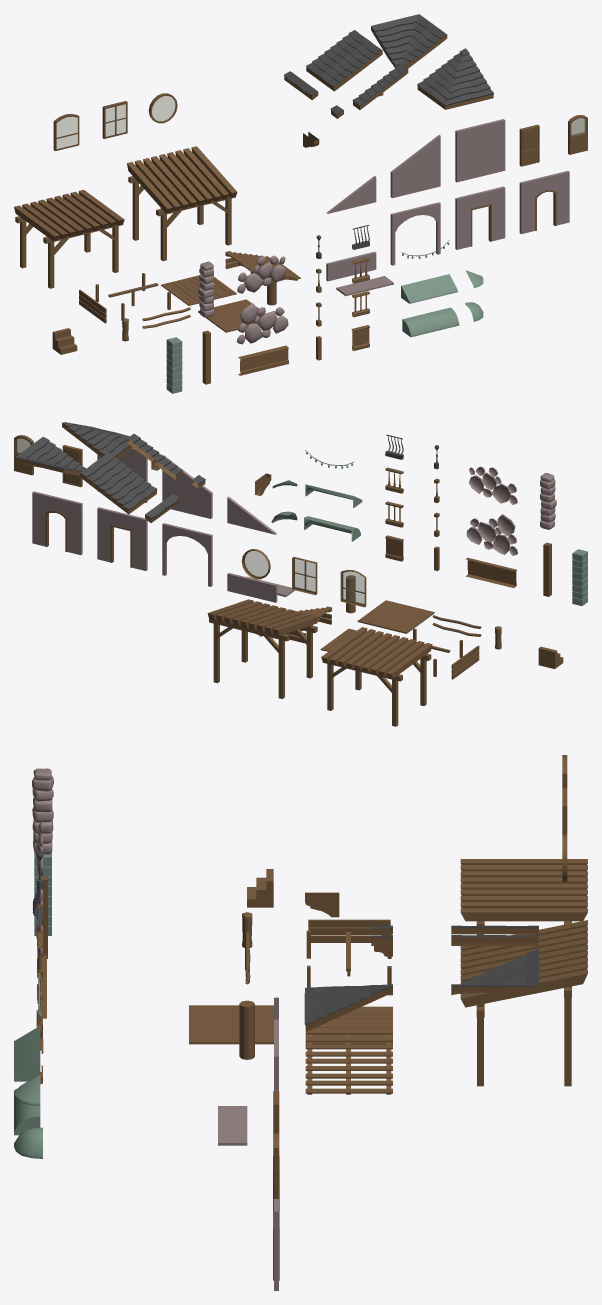
The model's file is BuildingPiecesID.fbx.
3 renders of one model, top to bottom at view 1: azimuth 30°, elevation 25°; view 2: azimuth 150°, elevation 25°; view 3: azimuth 270°, elevation 25°, orthographic. The views are drawn at different scales.
Parts seen in each view (by area): view 1: TerraceTilt1, Terrace1, RoofOuterCorner1, Wall1, RoofInnerCorner1, RoofSlope1, WallFrameRect1, WallFramRound1, WallRoofTall1, WallStones1, AwningRound1, Awning1 (+19 smaller); view 2: Terrace1, TerraceTilt1, RoofSlope1, WallFramRound1, WallFrameRect1, WallRoofTall1, BoardWalk1, RoofInnerCorner1, WallStones1, RoofOuterCorner1, WallStonesAlt1, WallArch1 (+19 smaller); view 3: Terrace1, TerraceTilt1, PlankIncline1, BoardWalk1, RoofOuterCorner1, RoofInnerCorner1, PlankFloor1, WoodEndPiece1, StoneSuppport1, Awning1, Stone_Wall19, RoofSlope1 (+6 smaller).
Boxes of the visible parts, box(x1,y1,x2,y2) form: TerraceTilt1: box(127, 146, 237, 261); Terrace1: box(14, 189, 124, 288); RoofOuterCorner1: box(417, 48, 493, 109); Wall1: box(455, 119, 505, 182); RoofInnerCorner1: box(371, 14, 447, 68); RoofSlope1: box(306, 30, 382, 91); WallFrameRect1: box(455, 186, 505, 249); WallFramRound1: box(519, 171, 569, 234); WallRoofTall1: box(390, 135, 440, 198); WallStones1: box(237, 303, 288, 344); AwningRound1: box(402, 307, 459, 337); Awning1: box(401, 274, 457, 303); Terrace1: box(321, 627, 432, 726); TerraceTilt1: box(207, 599, 318, 698); RoofSlope1: box(80, 452, 156, 514); WallFramRound1: box(32, 491, 82, 555); WallFrameRect1: box(97, 507, 147, 570); WallRoofTall1: box(162, 455, 212, 518); BoardWalk1: box(357, 600, 434, 633); RoofInnerCorner1: box(15, 436, 86, 475); WallStones1: box(466, 514, 517, 555); RoofOuterCorner1: box(62, 422, 132, 458); WallStonesAlt1: box(469, 466, 517, 504); WallArch1: box(162, 523, 212, 586); Terrace1: box(460, 859, 587, 935); TerraceTilt1: box(460, 920, 587, 1086); PlankIncline1: box(305, 1029, 392, 1094); BoardWalk1: box(189, 1005, 273, 1044); RoofOuterCorner1: box(304, 984, 392, 1031); RoofInnerCorner1: box(451, 949, 538, 995); PlankFloor1: box(305, 1006, 392, 1044); WoodEndPiece1: box(308, 919, 390, 942); StoneSuppport1: box(32, 768, 53, 854); Awning1: box(14, 1026, 40, 1081); Stone_Wall19: box(218, 1106, 247, 1145); RoofSlope1: box(451, 935, 538, 945).
Bounding box in the file's own units: 33.22 × 9.82 × 19.69.
